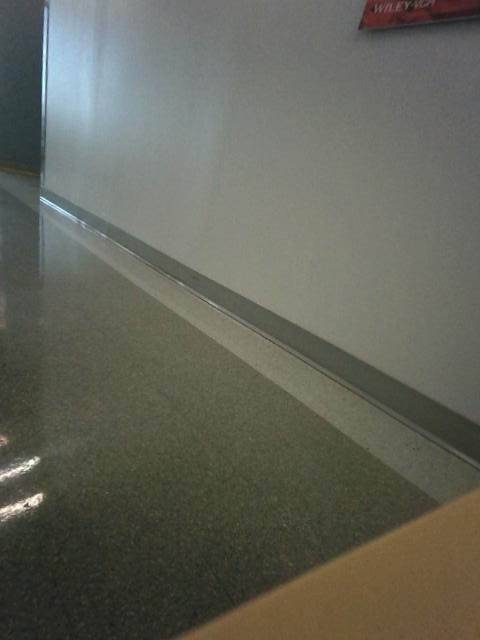ball: (359, 0, 479, 28)
